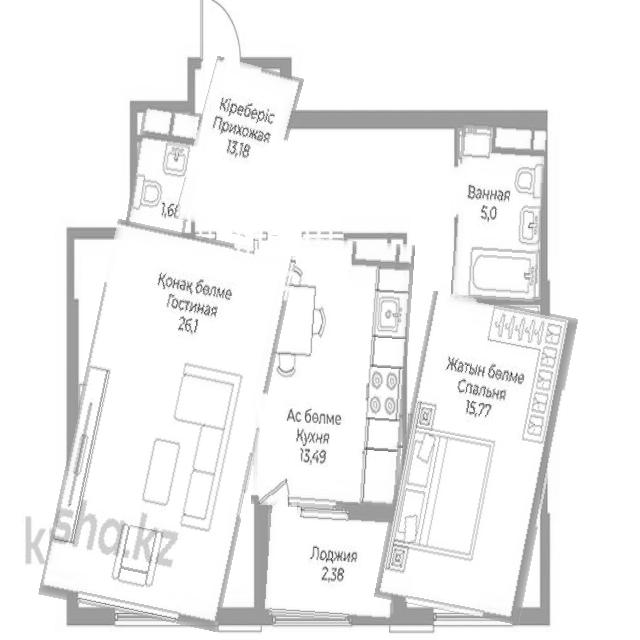balcony: (261, 508, 400, 622)
bathroom: (453, 117, 544, 303), (130, 107, 198, 237)
hallway: (184, 61, 294, 237)
kitchen: (255, 238, 410, 512)
living_room: (57, 227, 278, 625), (388, 296, 564, 620)
